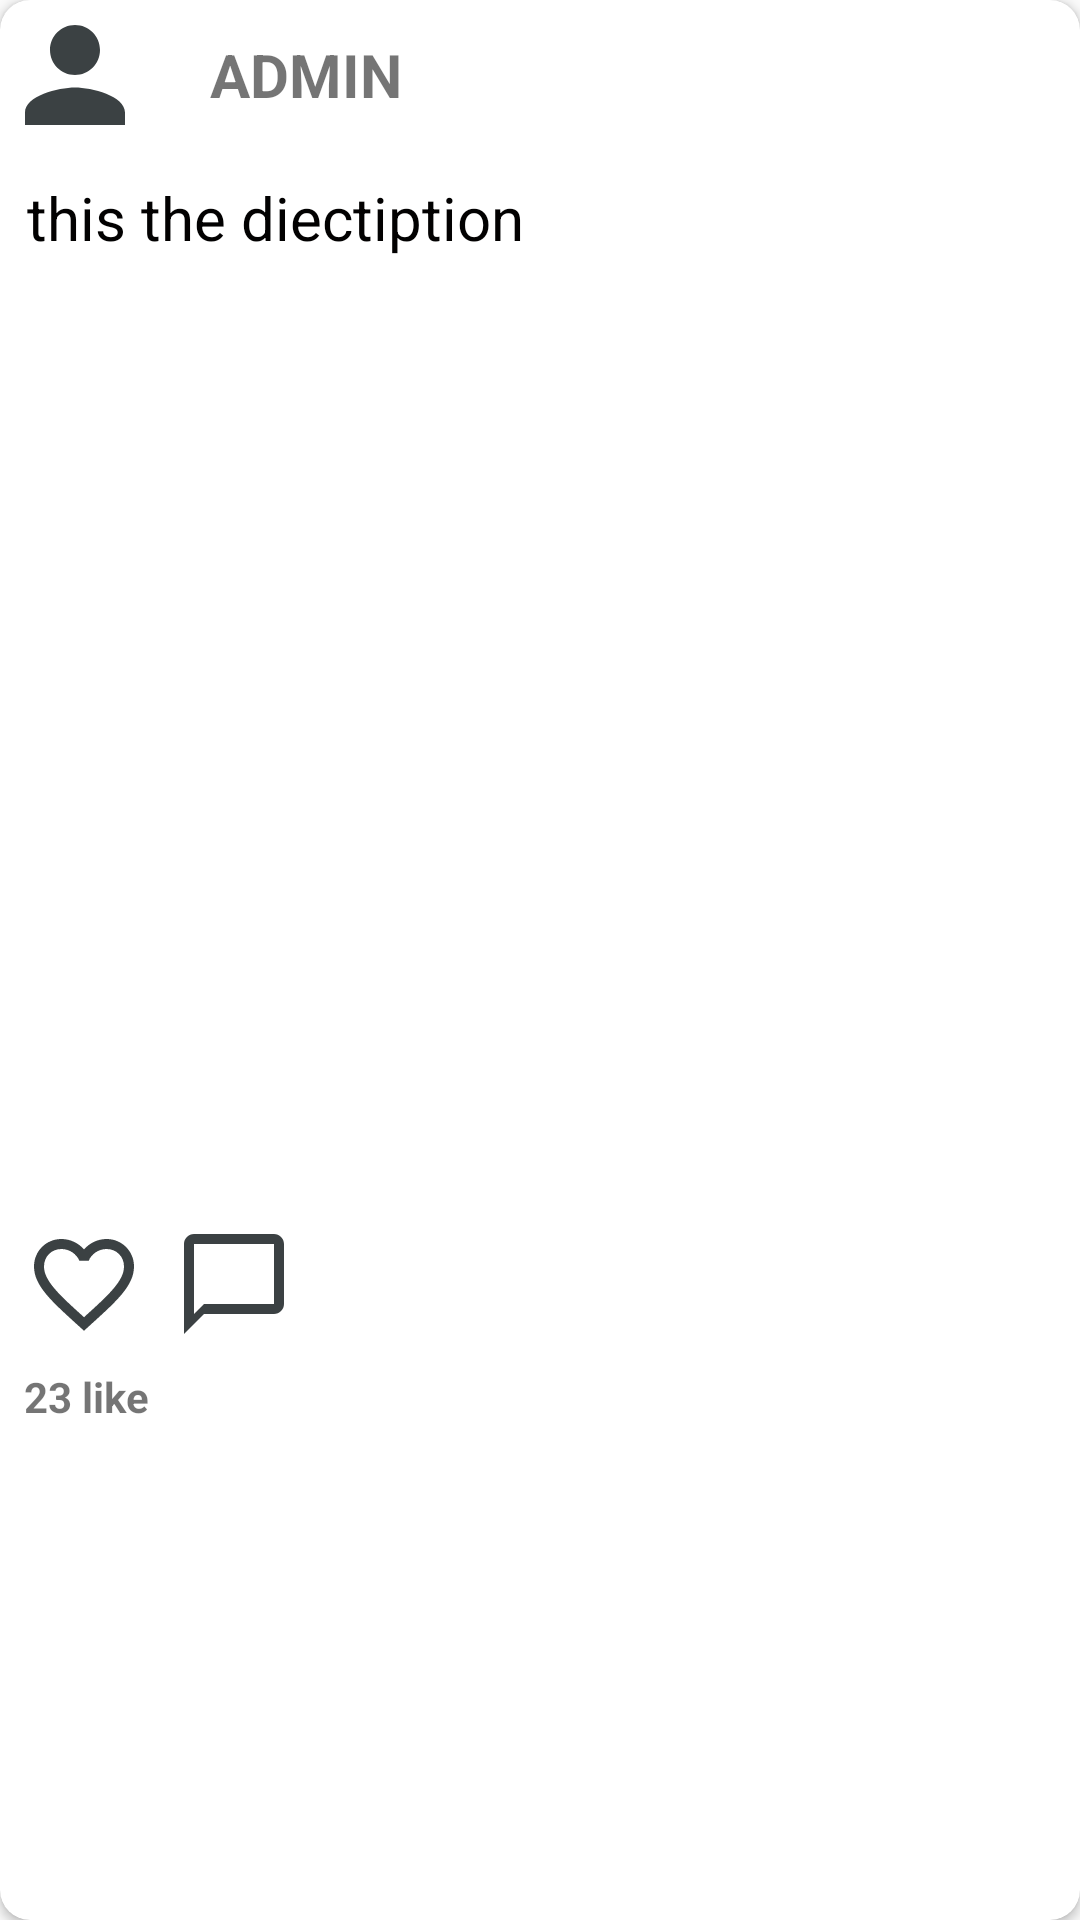

Screen size 1080w x 1920h. Icon name, then its box in pixels as (x1, y1, x2, y2):
comment: (184, 1234, 284, 1334)
favor: (34, 1239, 134, 1331)
person: (0, 0, 125, 125)
